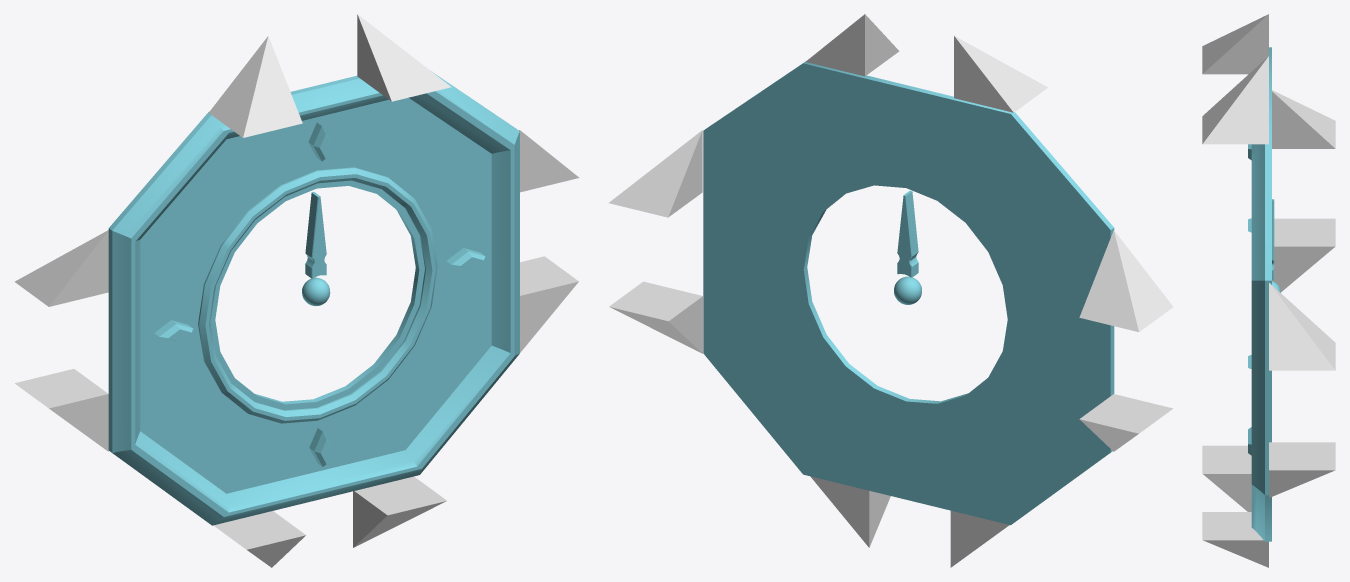
The model's file is M_TimeTurnerOpen.1.fbx.
3 renders of one model, left to right at view 1: azimuth 30°, elevation 25°; view 2: azimuth 150°, elevation 25°; view 3: azimuth 270°, elevation 25°, orthographic. The views are drawn at different scales.
Parts seen in each view (by area): view 1: polySurface48, TimeTurner1, TimeTurner2, TimeTurner8, TimeTurner7, TimeTurner5, TimeTurner4, TimeTurner6, TimeTurner3, pCube5; view 2: polySurface48, TimeTurner8, TimeTurner3, TimeTurner1, TimeTurner4, TimeTurner2, TimeTurner7, TimeTurner5, TimeTurner6, pCube5; view 3: polySurface48, TimeTurner2, TimeTurner3, TimeTurner7, TimeTurner4, TimeTurner1, TimeTurner8, TimeTurner6, TimeTurner5, pCube5.
Boxes of the visible parts, box(x1,y1,x2,y2) form: polySurface48: box(108, 71, 519, 525); TimeTurner1: box(209, 36, 302, 137); TimeTurner2: box(357, 14, 451, 101); TimeTurner8: box(14, 230, 108, 306); TimeTurner7: box(15, 369, 108, 451); TimeTurner5: box(353, 476, 446, 547); TimeTurner4: box(520, 256, 578, 352); TimeTurner6: box(213, 511, 305, 567); TimeTurner3: box(519, 130, 579, 192); pCube5: box(305, 191, 326, 278); polySurface48: box(703, 61, 1114, 525); TimeTurner8: box(1079, 230, 1173, 331); TimeTurner3: box(608, 130, 702, 217); TimeTurner1: box(954, 36, 1047, 112); TimeTurner4: box(609, 281, 702, 353); TimeTurner2: box(805, 14, 899, 76); TimeTurner7: box(1079, 394, 1173, 451); TimeTurner5: box(810, 476, 890, 547); TimeTurner6: box(950, 510, 1009, 567); pCube5: box(897, 190, 918, 277); polySurface48: box(1251, 47, 1271, 541); TimeTurner2: box(1202, 56, 1268, 144); TimeTurner3: box(1269, 283, 1335, 370); TimeTurner7: box(1272, 218, 1335, 291); TimeTurner4: box(1269, 442, 1335, 497); TimeTurner1: box(1202, 14, 1268, 74); TimeTurner8: box(1272, 90, 1335, 148); TimeTurner6: box(1202, 445, 1251, 511); TimeTurner5: box(1202, 512, 1268, 567); pCube5: box(1272, 199, 1274, 280).
Size of the model in its own units: 73.02 by 70.09 by 16.44.
